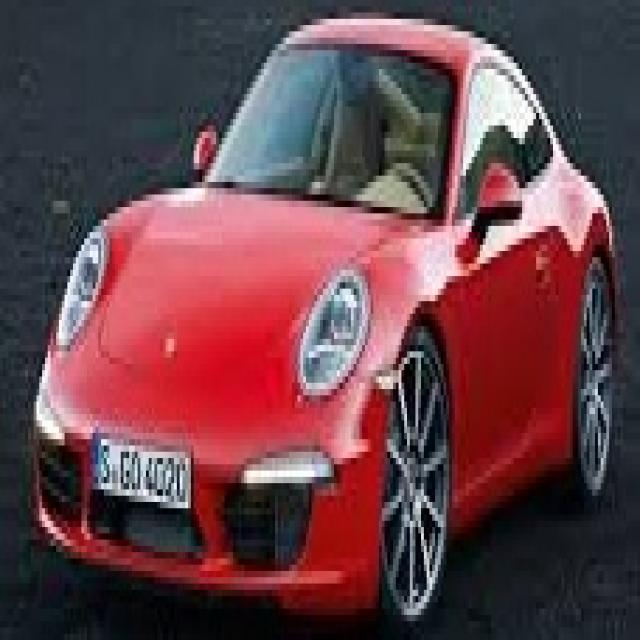red: (39, 14, 620, 624)
